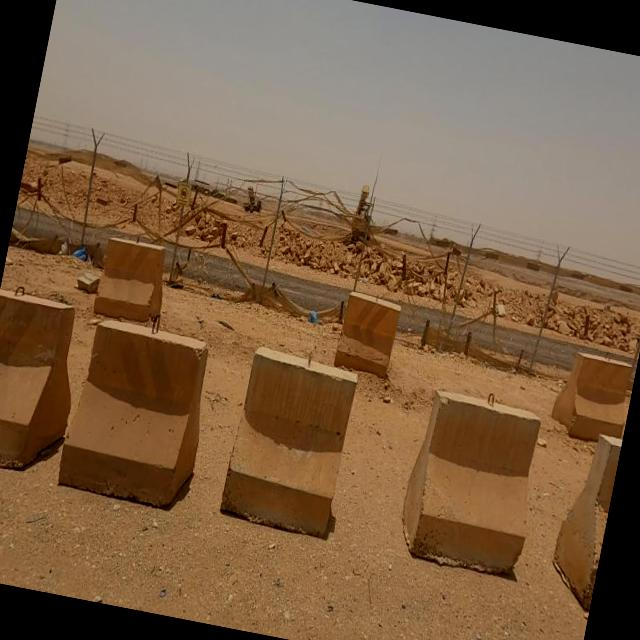debris: (48, 202, 114, 294), (142, 232, 206, 323), (280, 276, 345, 362), (52, 243, 123, 320), (190, 262, 242, 330), (42, 220, 86, 276)
